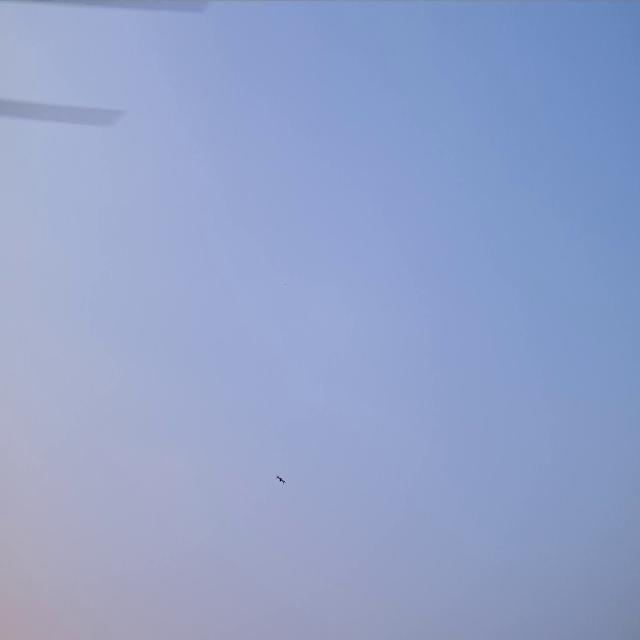UAV: (273, 471, 288, 487)
